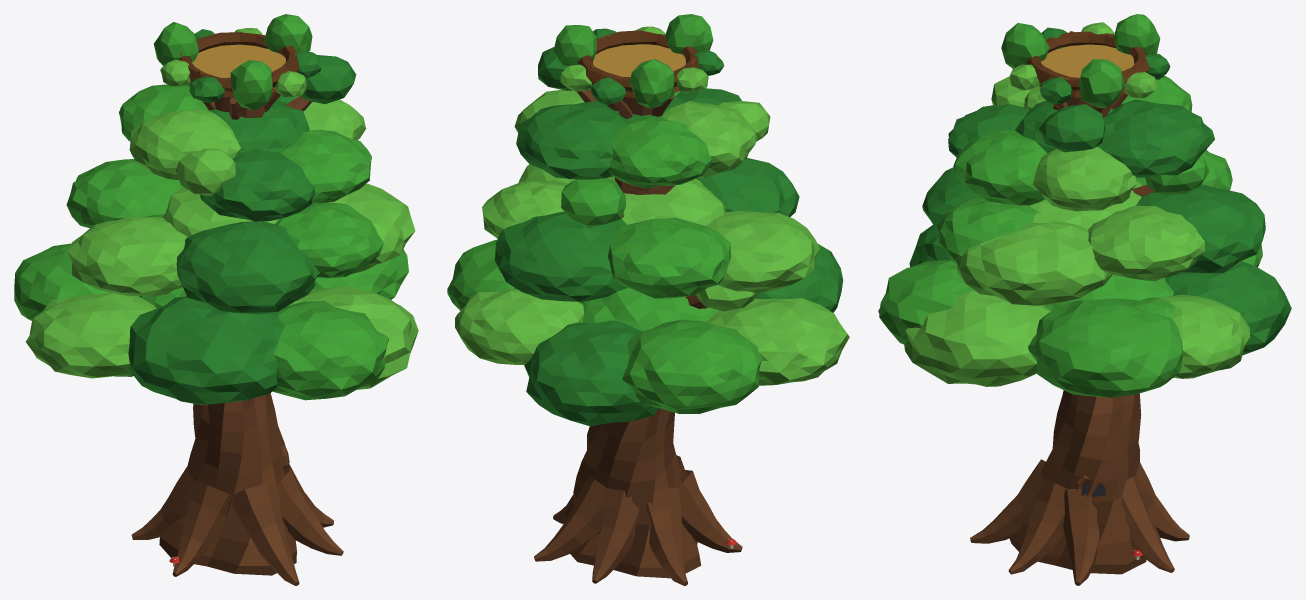
Rendered from giant_tree.glb.
3 renders of one model, left to right at view 1: azimuth 30°, elevation 25°; view 2: azimuth 150°, elevation 25°; view 3: azimuth 270°, elevation 25°, orthographic.
Parts seen in each view (by area): view 1: canopy, trunk; view 2: canopy, trunk; view 3: canopy, trunk.
Part boxes in pixels (bbox=[...]): canopy: bbox=[14, 14, 418, 404]; trunk: bbox=[131, 31, 343, 585]; canopy: bbox=[447, 14, 849, 426]; trunk: bbox=[534, 30, 742, 585]; canopy: bbox=[878, 14, 1291, 397]; trunk: bbox=[970, 31, 1189, 585].
Size of the model in its own units: 24.35 by 32.65 by 23.83.
